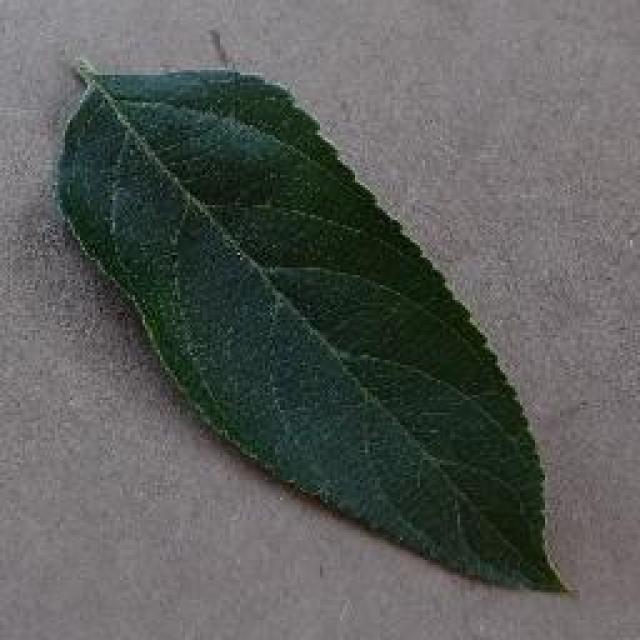apple healthy: (50, 47, 575, 595)
